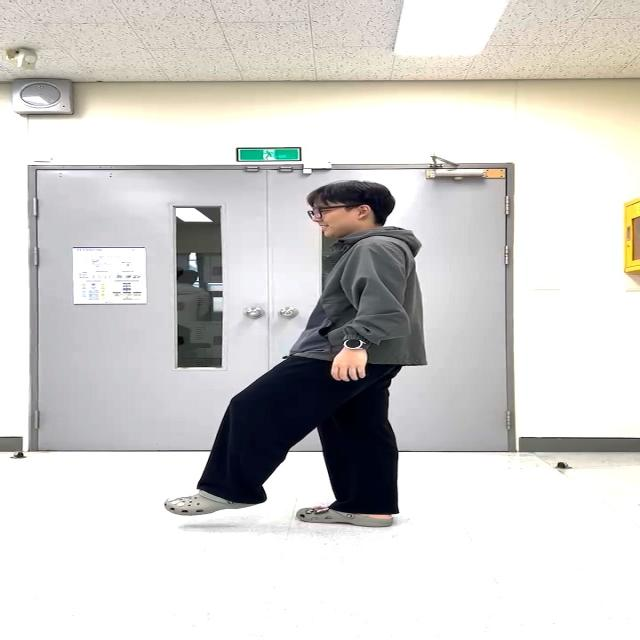leg: (153, 355, 324, 514)
